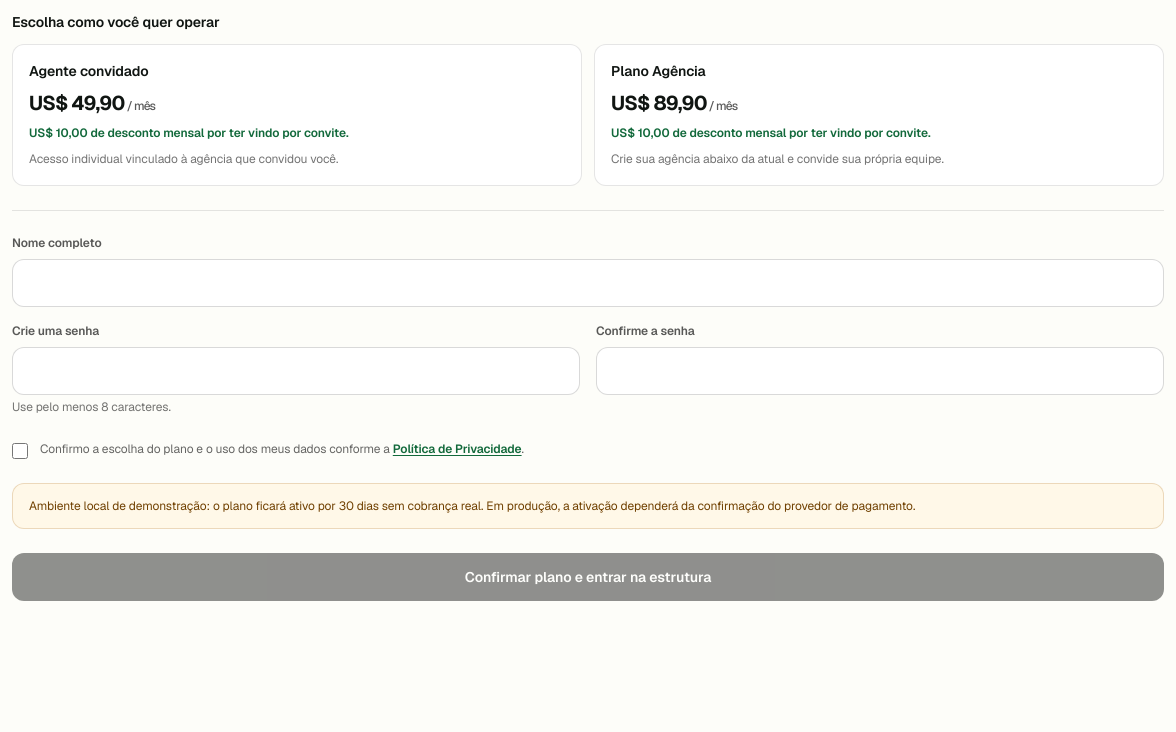
Test: InvitationAcceptanceForm › shows both server-defined plan prices and collects agency identity only for the agency choice
Expected: the radio button labelled "Agente convidado" is not checked, [12,44,582,186]
Expected: the text "US$ 49,90 / mês" is shown, [29,90,155,116]
Click the radio button labelled "Plano Agência" at (658, 71), box [594,44,1164,186]
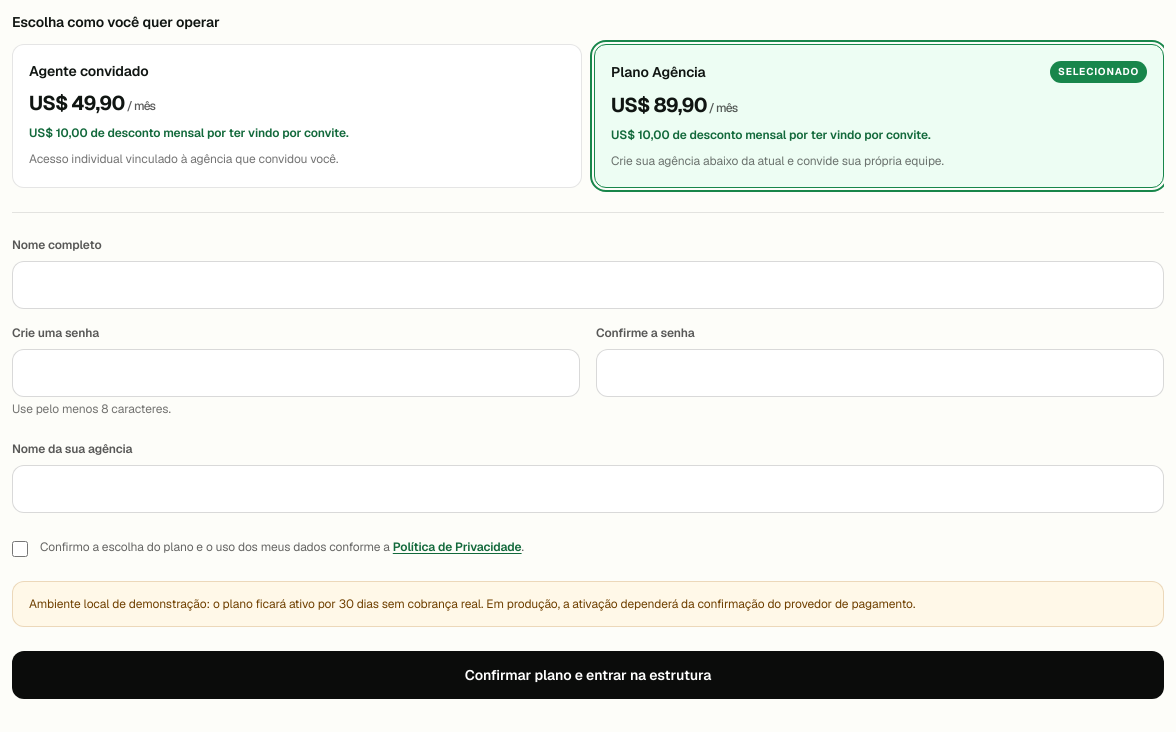
Expected: the text "sem cobrança real" is shown, [29,596,915,612]
Result: the button "Confirmar plano e entrar na estrutura" is enabled at [12,651,1164,699]
